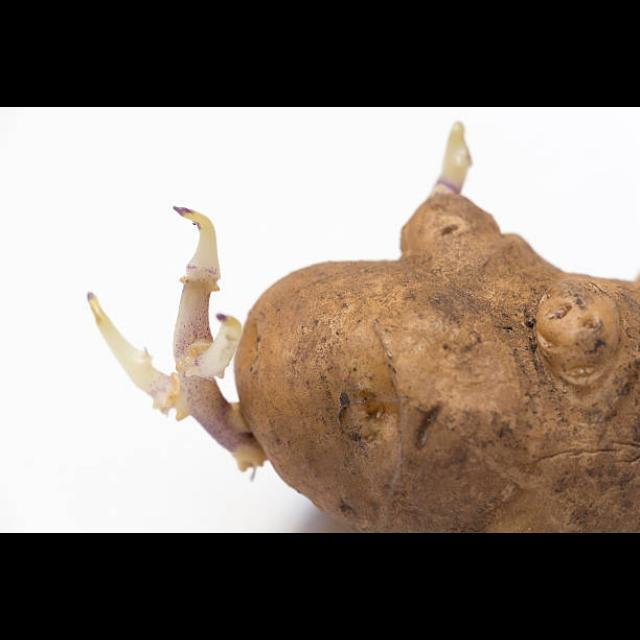Sprouted potato: (90, 124, 640, 534)
